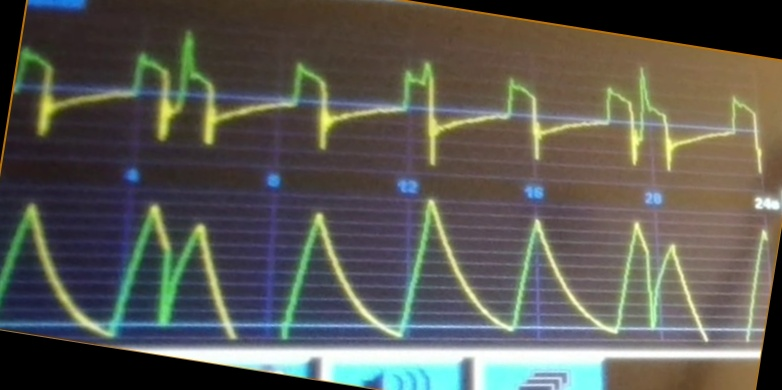Double_Triggering Flow: (31, 33, 689, 172)
Double_Triggering Volume: (33, 205, 714, 342)
